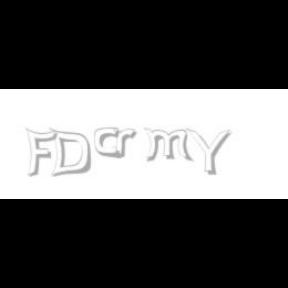D: (48, 128, 92, 178)
F: (25, 128, 57, 178)
Y: (185, 128, 231, 176)
c: (94, 128, 124, 160)
m: (142, 128, 194, 162)
r: (112, 128, 140, 158)
